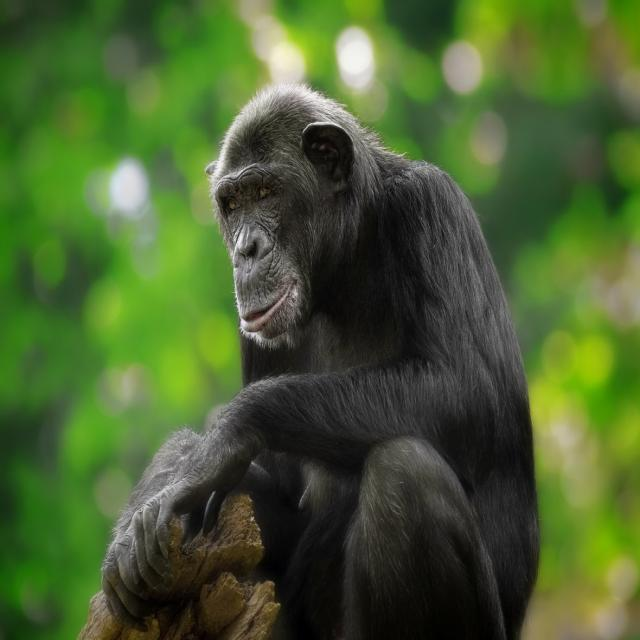Chimpanzee: (168, 89, 532, 640)
